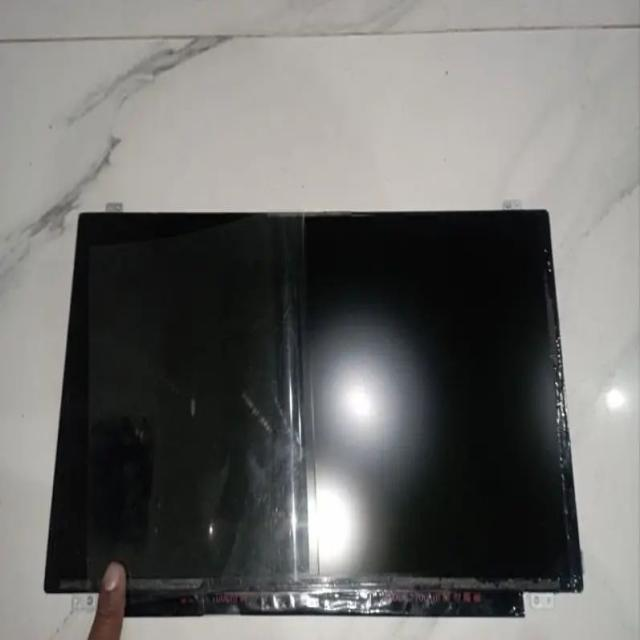electronic: (43, 207, 584, 618)
